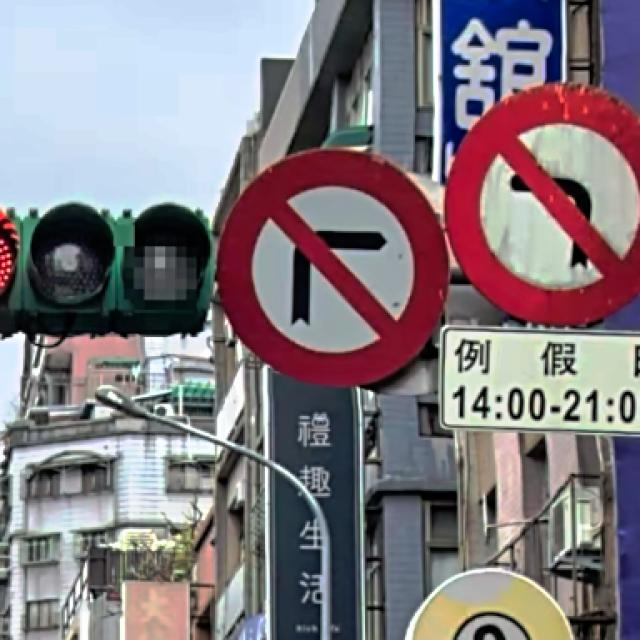noturnright: (215, 149, 452, 388)
